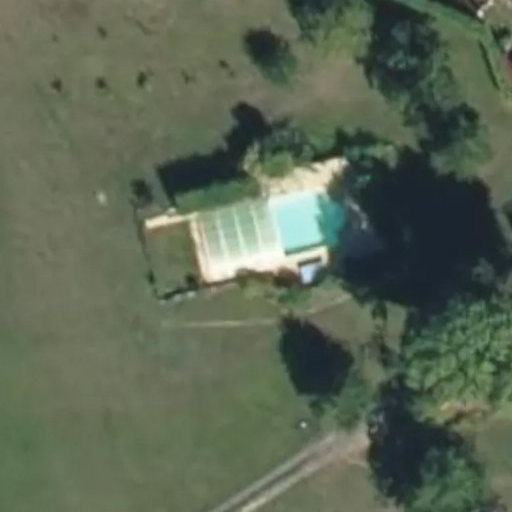pool: (189, 223, 322, 260)
